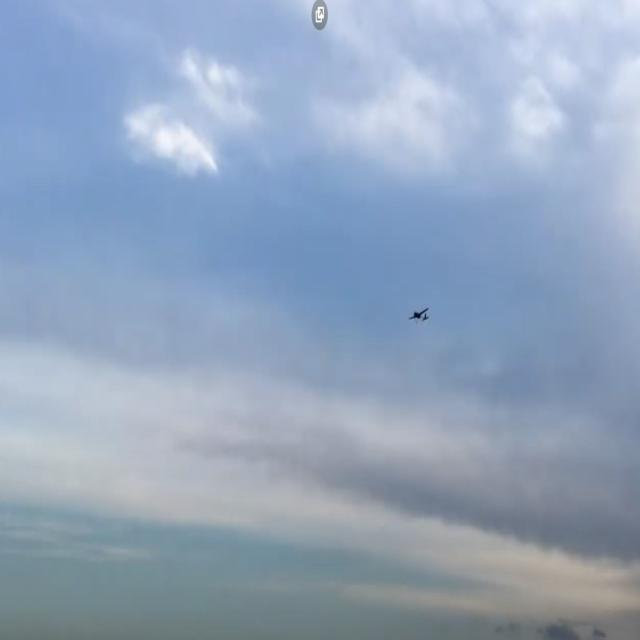iha: (407, 306, 431, 324)
